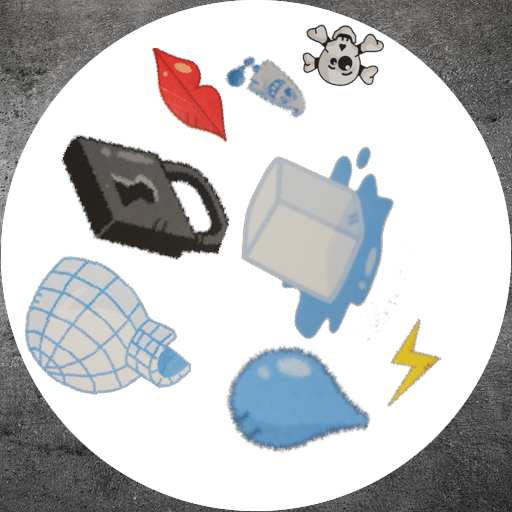cube_icon: (196, 123, 415, 342)
ghost_icon: (225, 43, 314, 132)
igloo_icon: (21, 243, 203, 425)
lightning_icon: (362, 318, 454, 410)
lips_icon: (131, 44, 237, 150)
lock_icon: (55, 105, 234, 284)
raindrop_icon: (225, 332, 371, 478)
skull_icon: (293, 10, 386, 103)
